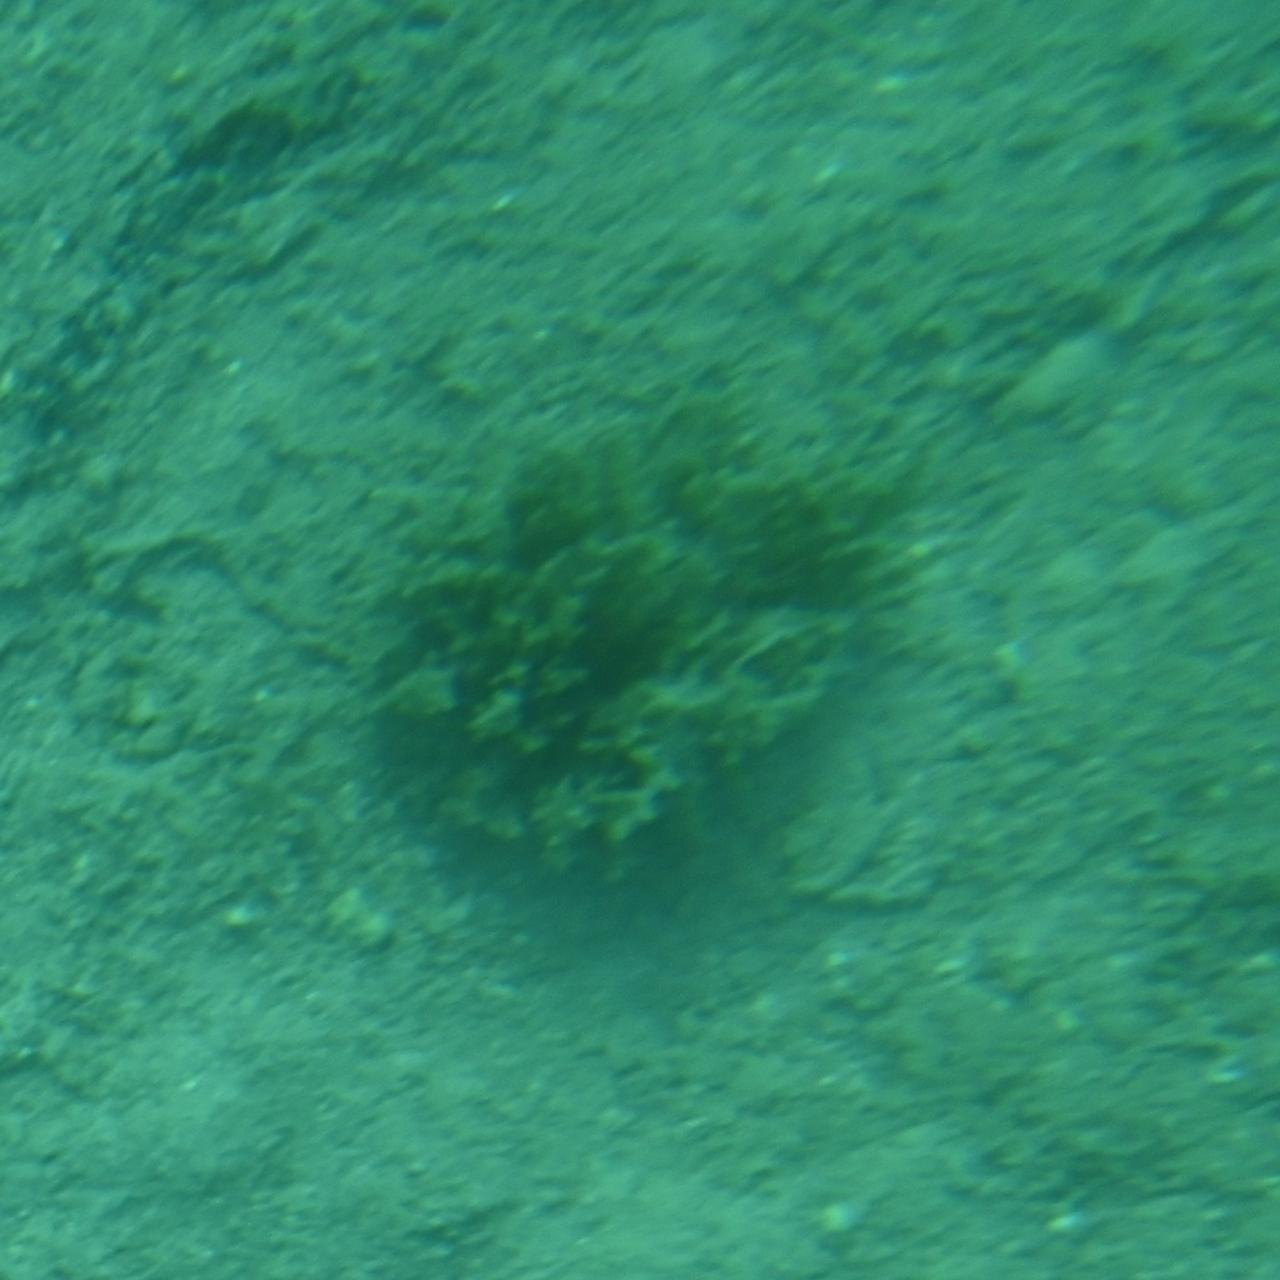Phaeophyceae -cfr Cystoseira-: (362, 381, 918, 899)
